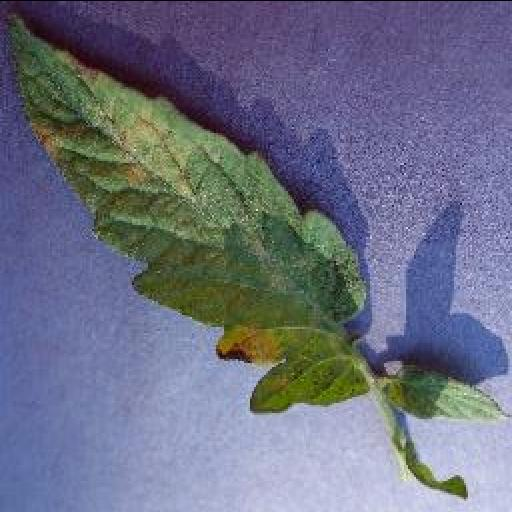disease_tomato: (2, 9, 368, 413)
